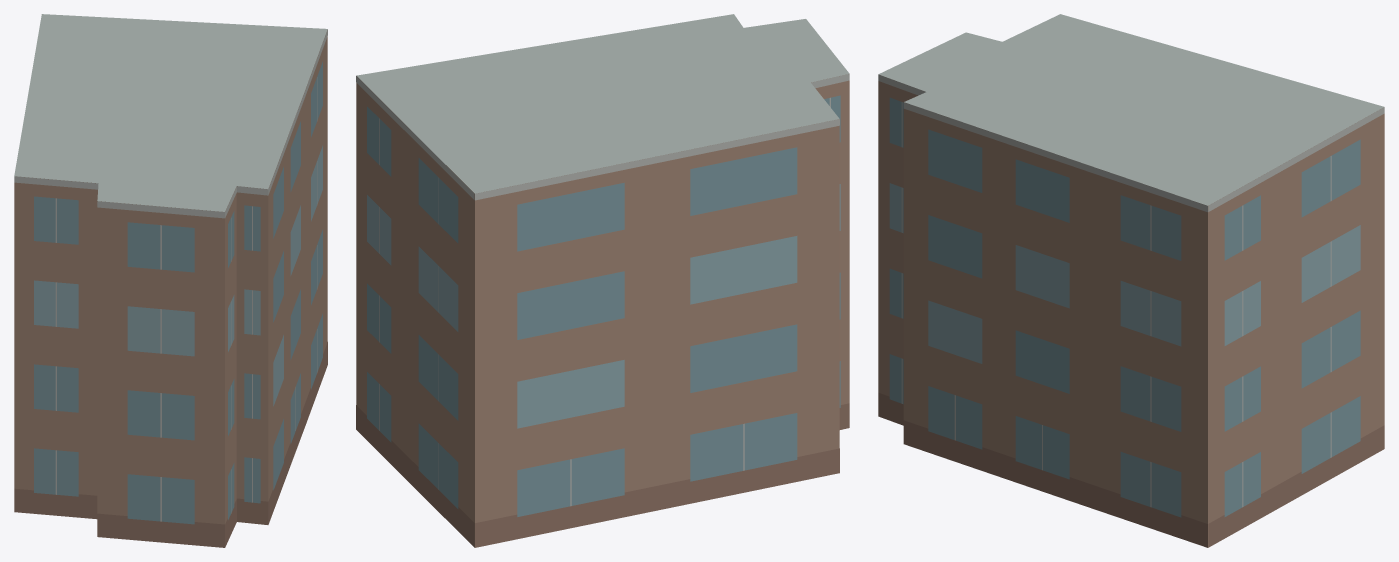
File: survey-upis-32675086.glb
3 renders of one model, left to right at view 1: azimuth 30°, elevation 25°; view 2: azimuth 150°, elevation 25°; view 3: azimuth 270°, elevation 25°, orthographic. The views are drawn at different scales.
Parts seen in each view (by area): view 1: survey-upis-32675086.tmp; view 2: survey-upis-32675086.tmp; view 3: survey-upis-32675086.tmp.
Part boxes in pixels (<box>): survey-upis-32675086.tmp: <box>14,14,327,547</box>; survey-upis-32675086.tmp: <box>356,14,849,547</box>; survey-upis-32675086.tmp: <box>878,14,1384,547</box>.
Bounding box in the file's own units: 15.41 × 12.8 × 17.18.
